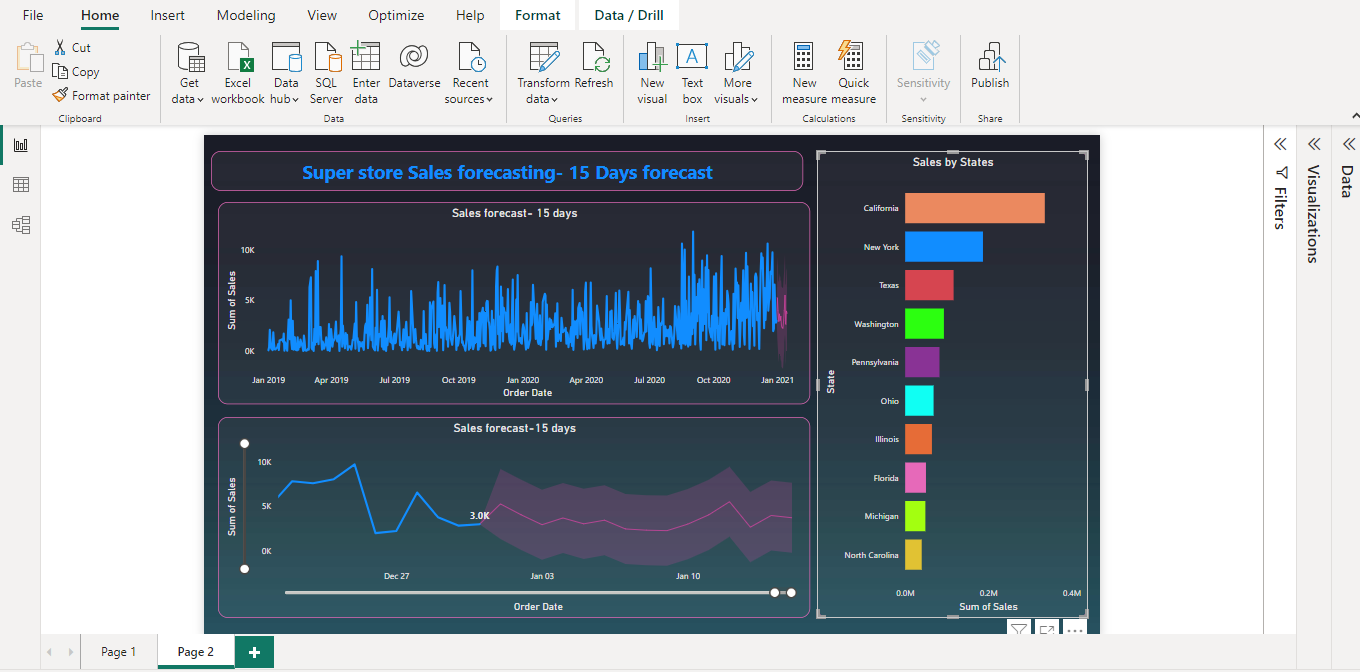

What the dashboard file says about the page in this screenshot:
{"tool":"powerbi","page":{"name":"Page 2","canvas":[1280,720],"ordinal":1},"visuals":[{"type":"lineChart","title":"Sales forecast- 15 days","fields":{"Y":["Sum(Sheet1.Sales)"],"Category":["Sheet1.Order Date"]},"box":[20,95.7,845.7,288.6],"z":0},{"type":"lineChart","title":"Sales forecast-15 days","fields":{"Y":["Sum(Sheet1.Sales)"],"Category":["Sheet1.Order Date"]},"box":[20,402.9,845.7,287.1],"z":1},{"type":"textbox","box":[10,22.9,845.7,57.1],"z":2},{"type":"clusteredBarChart","title":"Sales by States","fields":{"Category":["Sheet1.State"],"Y":["Sum(Sheet1.Sales)"]},"box":[875.7,22.9,387.1,667.1],"z":3}]}

Visuals, with their boxes on the page's 1280x720 design canvas (x1, y1, x2, y2). These are canvas units, not pixel positions in the 1360x672 screenshot, which may show the page scaled, cropped or inside an application window:
"Sales forecast- 15 days" lineChart: 20:96:866:384
"Sales forecast-15 days" lineChart: 20:403:866:690
textbox: 10:23:856:80
"Sales by States" clusteredBarChart: 876:23:1263:690
